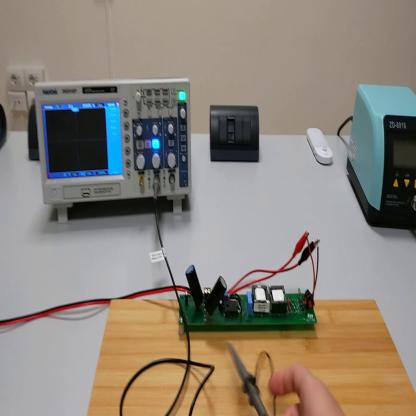hand: (269, 363, 343, 415)
high voltage board: (179, 237, 320, 340)
oscilloscope: (35, 80, 193, 219)
oscilloscope probe tip: (229, 340, 270, 414)
socket: (26, 105, 40, 165), (1, 105, 9, 150)
welder station: (348, 81, 416, 232)
working area: (91, 300, 416, 416)
